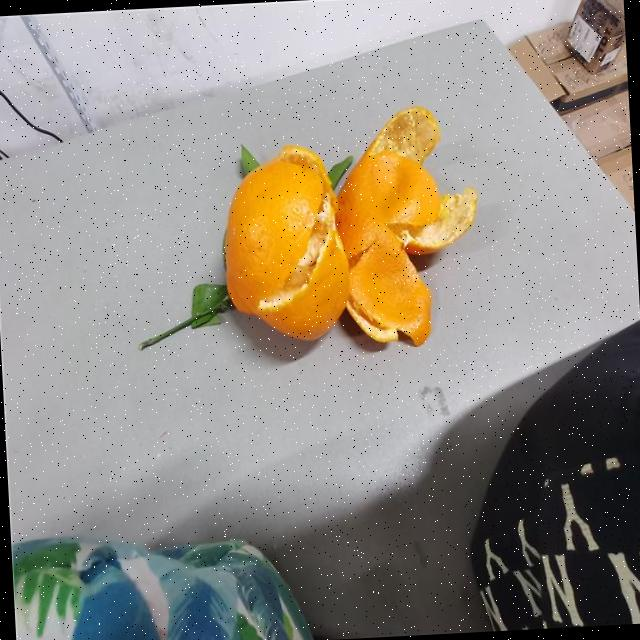orange-peel: (217, 142, 353, 344)
